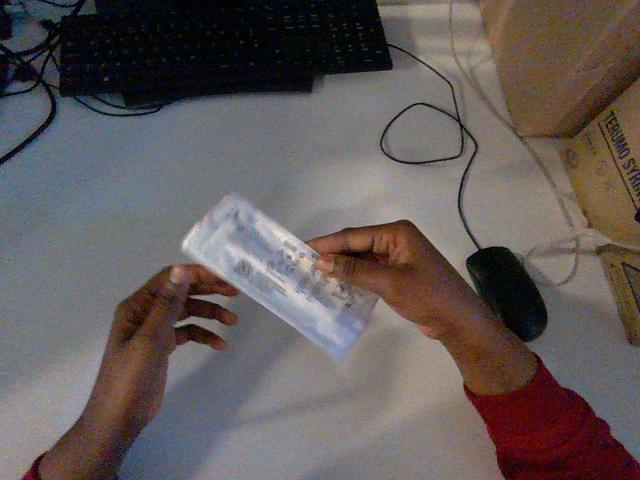syringe: (182, 193, 377, 357)
